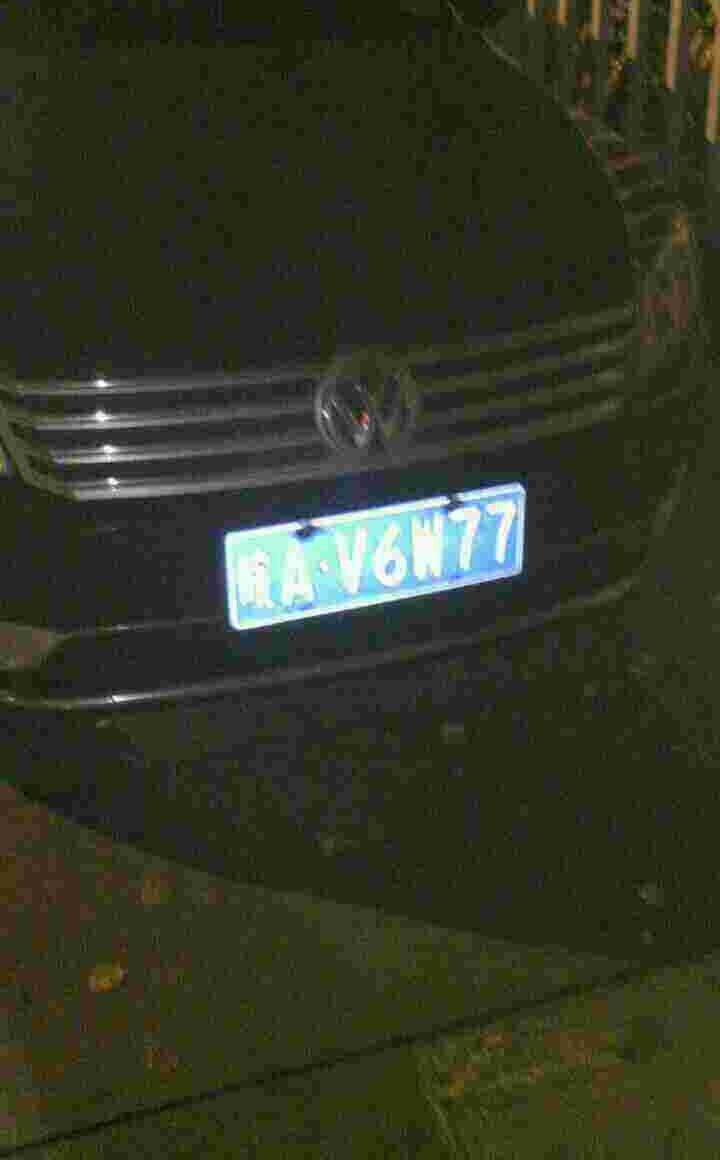license_plate: (236, 492, 521, 632)
